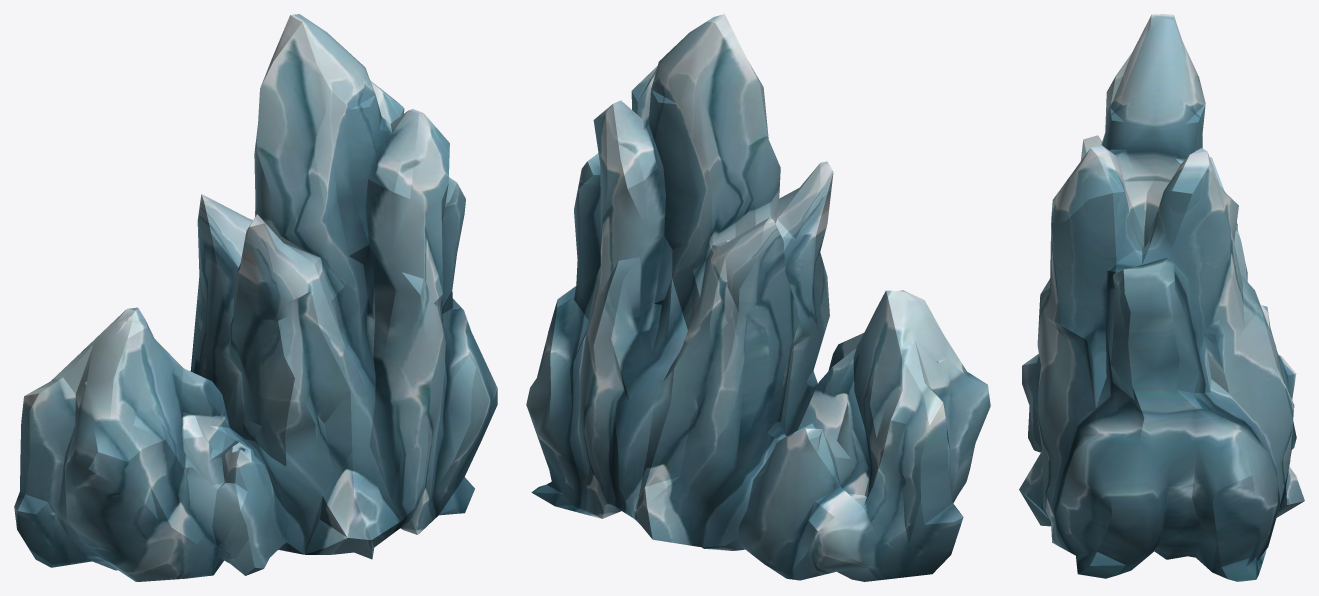
Rendered from NAT_Crystal3.glb.
The picture shows the model from 3 angles, left to right: view 1: azimuth 30°, elevation 25°; view 2: azimuth 150°, elevation 25°; view 3: azimuth 270°, elevation 25°; orthographic projection. The views are drawn at different scales.
Visible parts, largest first — view 1: Object_2; view 2: Object_2; view 3: Object_2.
Part boxes in pixels (left/top/right/bottom): Object_2: left=14, top=14, right=497, bottom=581; Object_2: left=526, top=14, right=990, bottom=581; Object_2: left=1019, top=14, right=1304, bottom=581.
Size of the model in its own units: 0.9113 by 0.9978 by 0.5079.
1 material, 1 textured.
